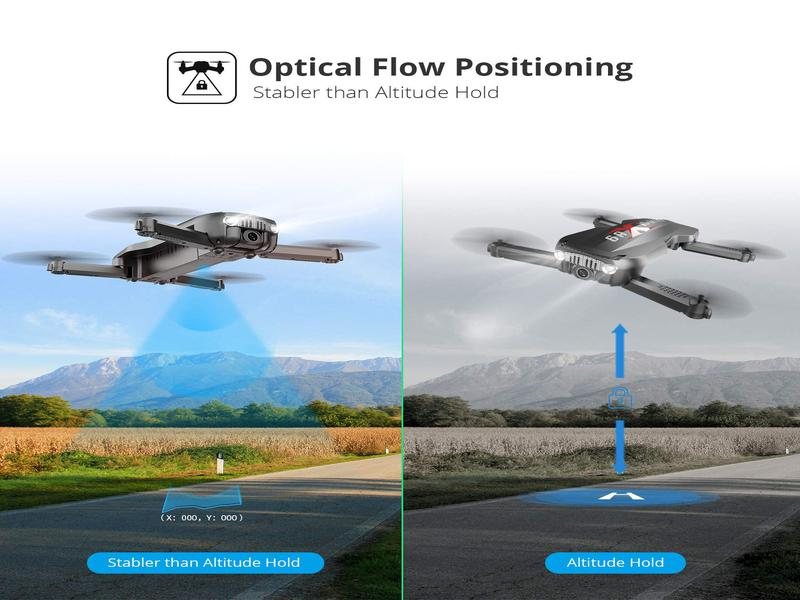enemy: (487, 215, 755, 318), (46, 209, 345, 290)
